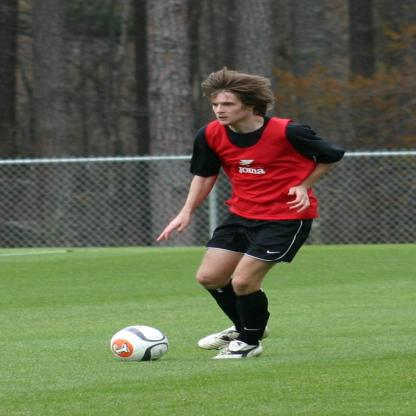Ball: (110, 324, 165, 361)
